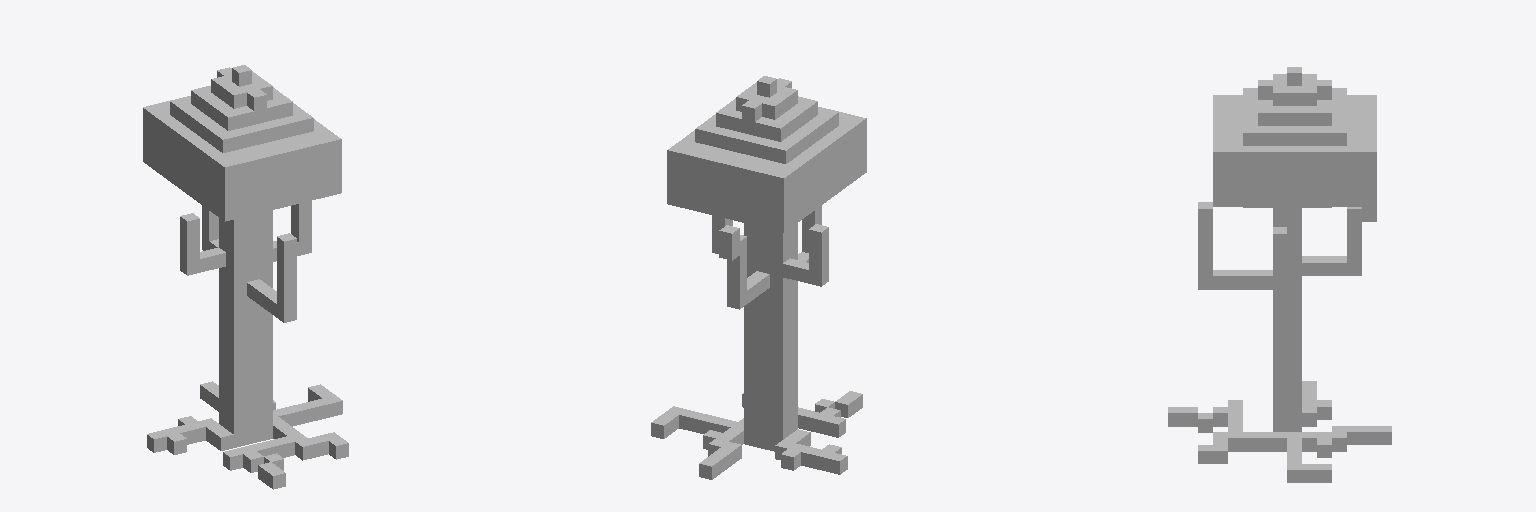
The model's file is tree3.obj.
3 renders of one model, left to right at view 1: azimuth 30°, elevation 25°; view 2: azimuth 150°, elevation 25°; view 3: azimuth 270°, elevation 25°, orthographic.
Parts seen in each view (by area): view 1: object 1; view 2: object 1; view 3: object 1.
Boxes of the visible parts, x1=… form: object 1: x1=143, y1=65, x2=348, y2=489; object 1: x1=651, y1=76, x2=866, y2=479; object 1: x1=1168, y1=67, x2=1391, y2=482.
Bounding box in the file's own units: 1.4 × 2.7 × 1.5.